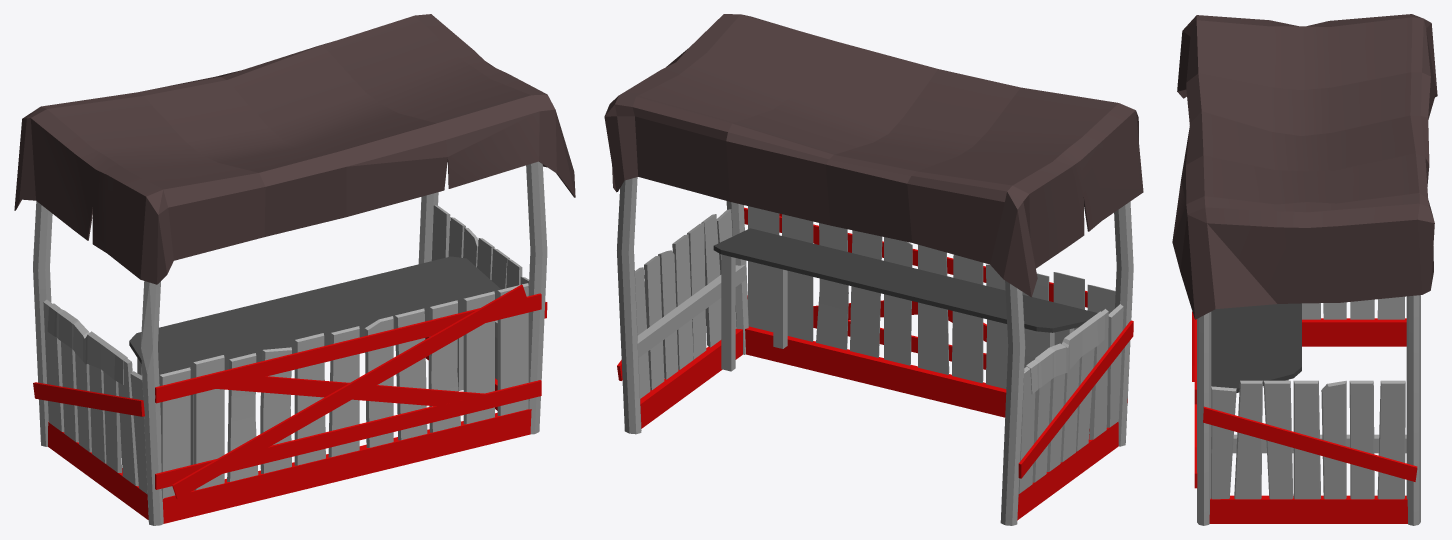
Rendered from fish_market.fbx.
3 views of the same model, side by side, from view 1: azimuth 30°, elevation 25°; view 2: azimuth 150°, elevation 25°; view 3: azimuth 270°, elevation 25° (orthographic). The views are drawn at different scales.
Visible parts, largest first — view 1: polySurface74; view 2: polySurface74; view 3: polySurface74.
Part boxes in pixels (<box>): polySurface74: <box>14,14,575,525</box>; polySurface74: <box>604,14,1143,525</box>; polySurface74: <box>1172,14,1437,525</box>.
Size of the model in its own units: 445 by 316 by 233.
